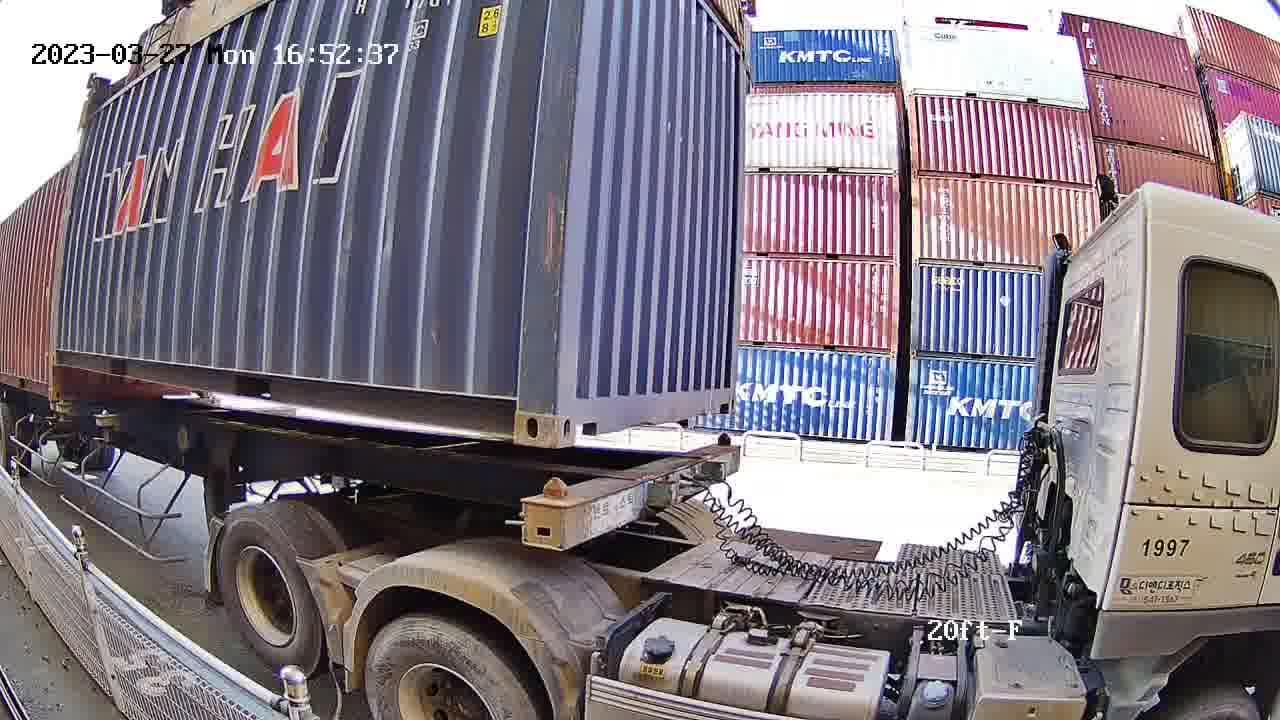Chassis: (522, 445, 740, 549)
Cone: (536, 475, 569, 551)
Hole_L: (553, 380, 602, 449)
Hole_R: (482, 378, 556, 448), (714, 380, 736, 413)
Tire: (217, 511, 322, 678), (363, 618, 535, 717)
